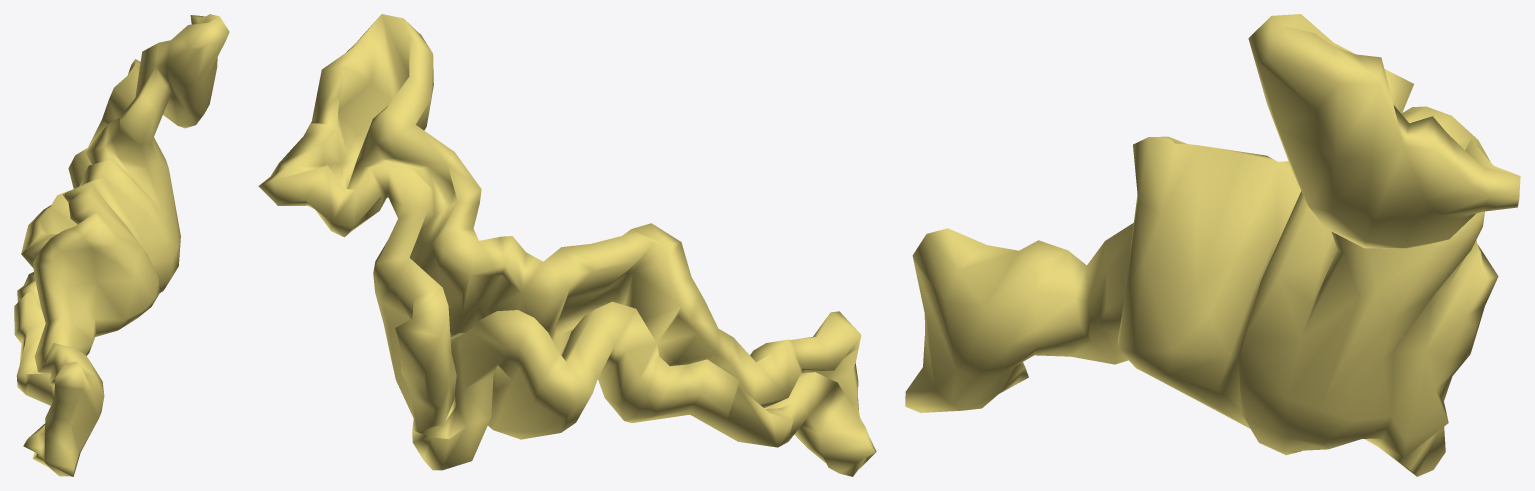
Rendered from postcentral-sulcus-r.glb.
3 views of the same model, side by side, from view 1: azimuth 30°, elevation 25°; view 2: azimuth 150°, elevation 25°; view 3: azimuth 270°, elevation 25° (orthographic). The views are drawn at different scales.
Visible parts, largest first — view 1: Postcentral sulcus.r; view 2: Postcentral sulcus.r; view 3: Postcentral sulcus.r.
Part boxes in pixels (bbox=[...]): Postcentral sulcus.r: bbox=[14, 14, 229, 476]; Postcentral sulcus.r: bbox=[258, 14, 876, 476]; Postcentral sulcus.r: bbox=[905, 14, 1520, 476].
Size of the model in its own units: 0.0422 by 0.0447 by 0.0406.
